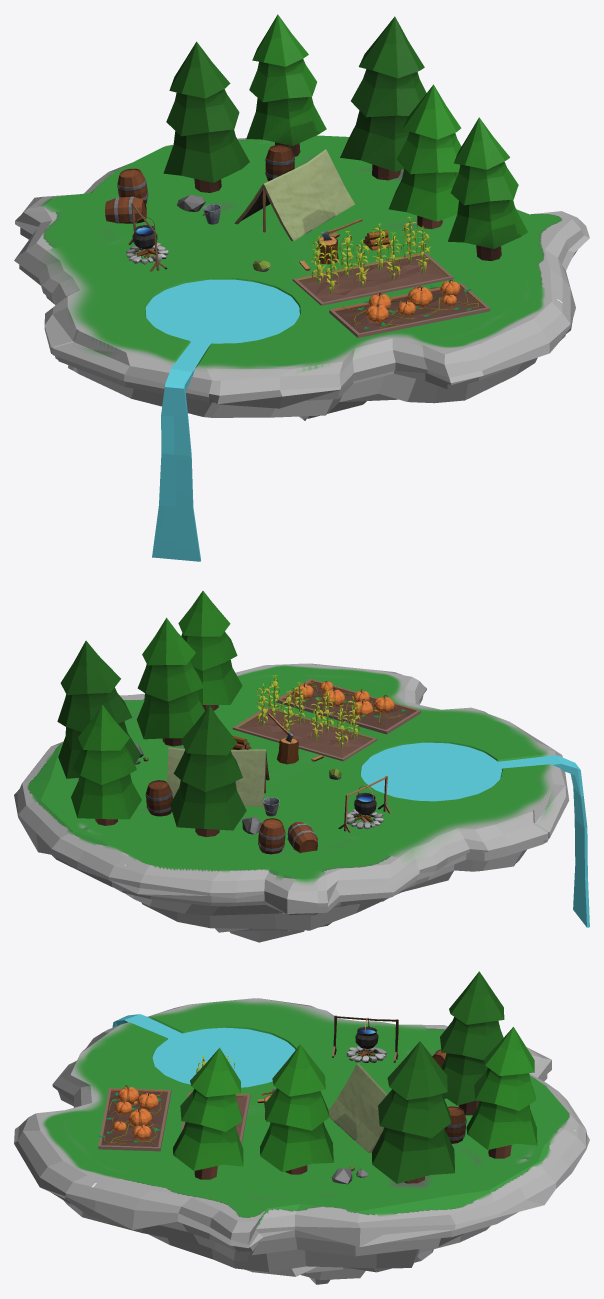
Rendered from island2.glb.
3 views of the same model, one above another, from view 1: azimuth 30°, elevation 25°; view 2: azimuth 150°, elevation 25°; view 3: azimuth 270°, elevation 25° (orthographic). The views are drawn at different scales.
Parts seen in each view (by area): view 1: Cube.002, Object001.001_Object001_mtl_0, Cube, Cube.001, Cube.010_Cube.024, Object001.002_Object001_mtl_0, Cube.009_Cube.004, Object001.004_Object001_mtl_0, Object001_Object001_mtl_0; view 2: Cube.002, Object001.001_Object001_mtl_0, Cube, Cube.001, Cube.010_Cube.024, Cube.009_Cube.004, Object001.004_Object001_mtl_0, Object001.002_Object001_mtl_0, Object001_Object001_mtl_0, Object001.007_Object001_mtl_0, Object001.006_Object001_mtl_0; view 3: Cube.002, Object001.001_Object001_mtl_0, Cube.001, Cube, Cube.009_Cube.004, Object001.002_Object001_mtl_0, Object001_Object001_mtl_0, Object001.004_Object001_mtl_0, Cube.010_Cube.024.
Boxes of the visible parts, x1=… form: Cube.002: x1=14, y1=135, x2=589, y2=408; Object001.001_Object001_mtl_0: x1=163, y1=14, x2=527, y2=260; Cube: x1=145, y1=279, x2=299, y2=561; Cube.001: x1=19, y1=227, x2=577, y2=420; Cube.010_Cube.024: x1=292, y1=216, x2=453, y2=305; Object001.002_Object001_mtl_0: x1=234, y1=149, x2=354, y2=241; Cube.009_Cube.004: x1=329, y1=279, x2=490, y2=337; Object001.004_Object001_mtl_0: x1=105, y1=145, x2=294, y2=223; Object001_Object001_mtl_0: x1=126, y1=202, x2=168, y2=271; Cube.002: x1=14, y1=663, x2=569, y2=908; Object001.001_Object001_mtl_0: x1=57, y1=591, x2=246, y2=836; Cube: x1=361, y1=742, x2=589, y2=927; Cube.001: x1=52, y1=695, x2=548, y2=942; Cube.010_Cube.024: x1=232, y1=675, x2=377, y2=761; Cube.009_Cube.004: x1=276, y1=678, x2=420, y2=734; Object001.004_Object001_mtl_0: x1=145, y1=780, x2=317, y2=854; Object001.002_Object001_mtl_0: x1=167, y1=747, x2=269, y2=806; Object001_Object001_mtl_0: x1=338, y1=776, x2=391, y2=832; Object001.007_Object001_mtl_0: x1=268, y1=713, x2=298, y2=764; Object001.006_Object001_mtl_0: x1=134, y1=743, x2=341, y2=834; Cube.002: x1=14, y1=998, x2=589, y2=1248; Object001.001_Object001_mtl_0: x1=173, y1=971, x2=537, y2=1183; Cube.001: x1=51, y1=1074, x2=547, y2=1284; Cube: x1=112, y1=1014, x2=295, y2=1087; Cube.009_Cube.004: x1=98, y1=1085, x2=171, y2=1151; Object001.002_Object001_mtl_0: x1=328, y1=1063, x2=387, y2=1153; Object001_Object001_mtl_0: x1=332, y1=1015, x2=398, y2=1062; Object001.004_Object001_mtl_0: x1=432, y1=1049, x2=466, y2=1143; Cube.010_Cube.024: x1=181, y1=1055, x2=250, y2=1143.
Bounding box in the file's own units: 5248 × 3158 × 5283.
Materials: 6 (4 with a texture image).
